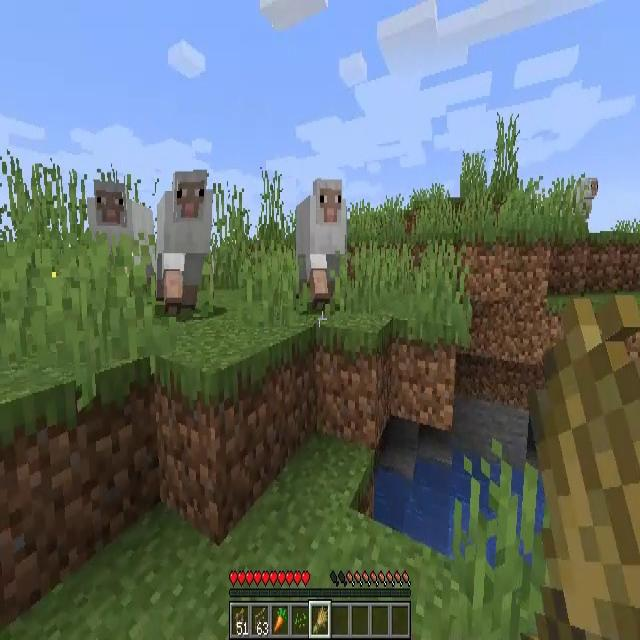sheep: (156, 170, 213, 318), (88, 180, 156, 304), (296, 178, 346, 320)
